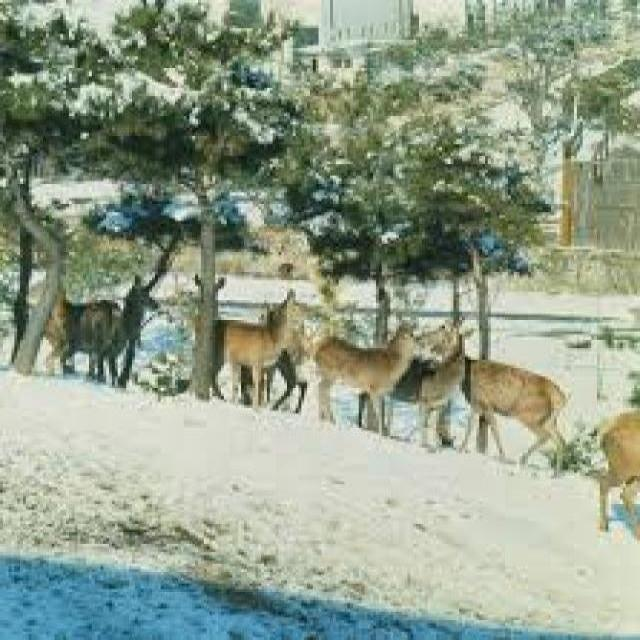deer: (437, 323, 576, 474), (25, 271, 167, 396), (203, 281, 320, 404), (312, 327, 432, 437)
